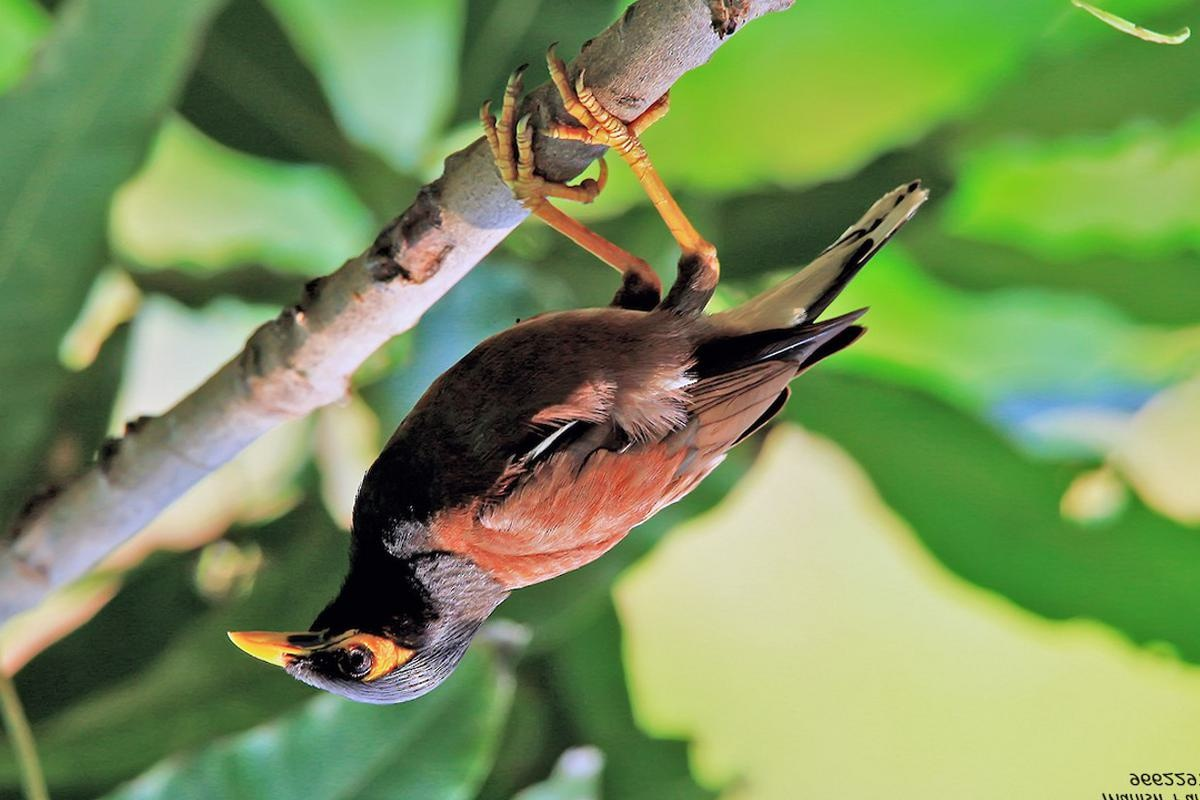myna: (211, 105, 886, 722)
